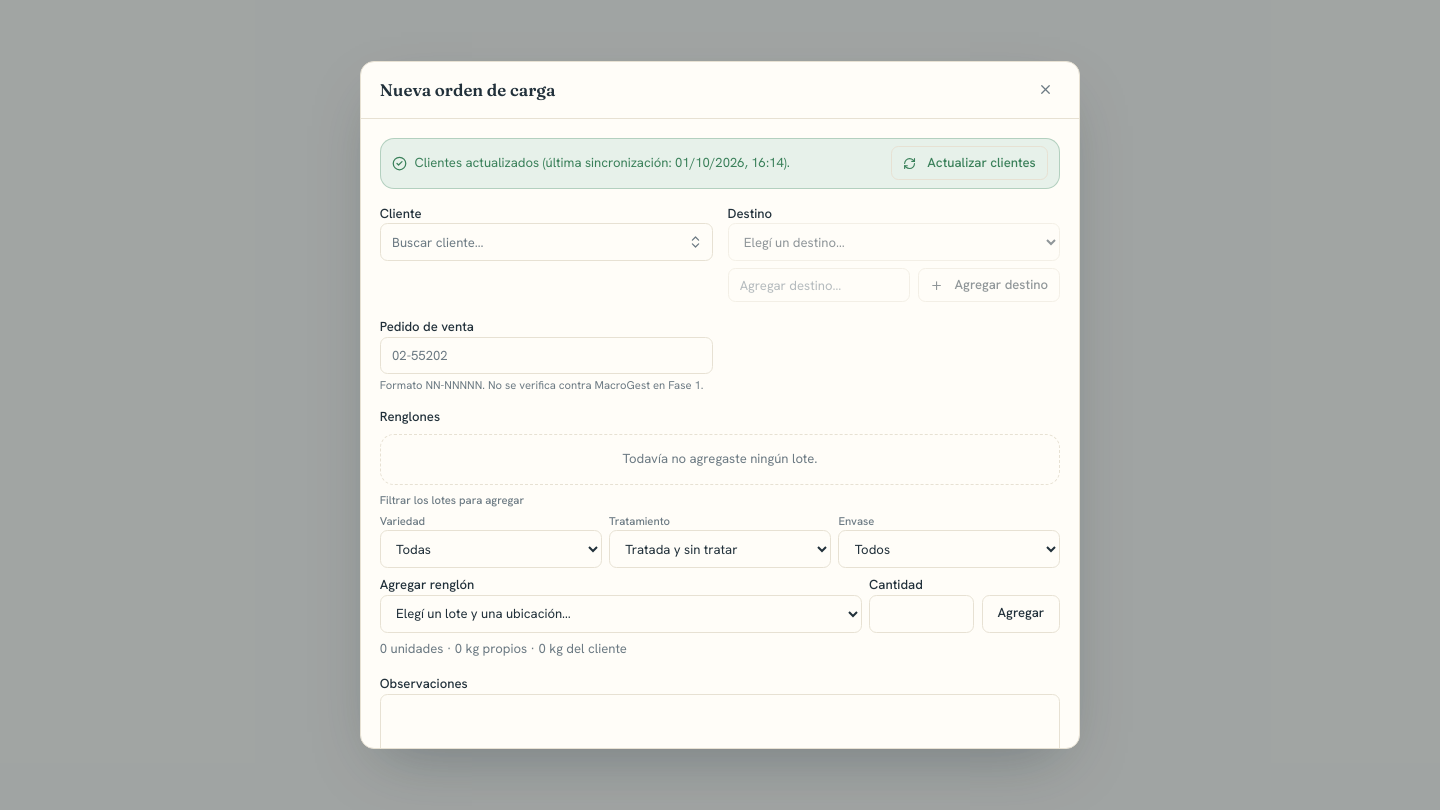
it: OrdenDialog › no deja agregar un renglón con más cantidad que el máximo disponible
The image size is (1440, 810).
Select "Lote 26S-001 · G1-1 · Propio · disp. 10 (8.000 kg)" in the dropdown labelled "Agregar renglón" at (621, 614), box left=380, top=595, right=862, bottom=632
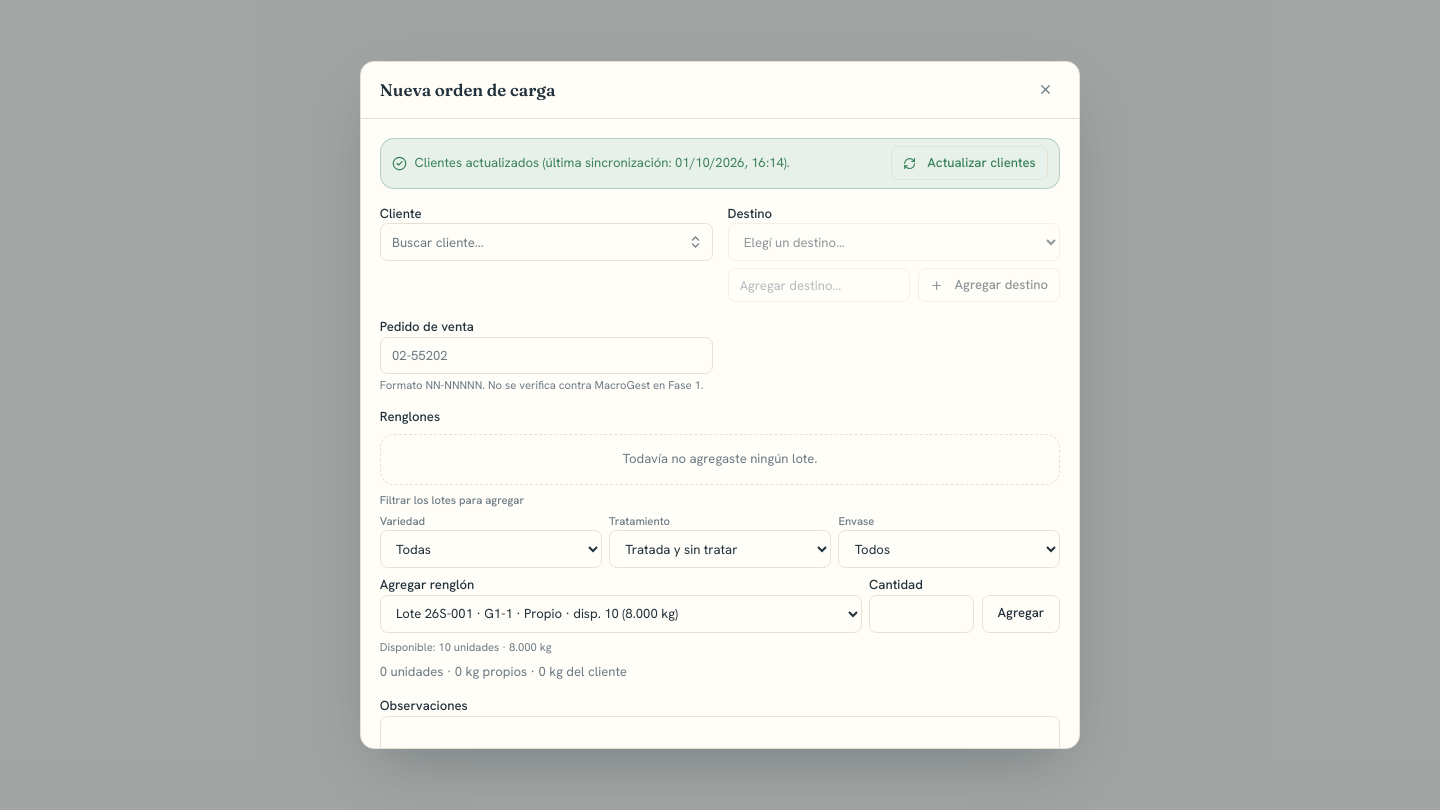
Type "999" into the number field labelled "Cantidad".
click(922, 614); type("999")  # box left=869, top=595, right=974, bottom=632
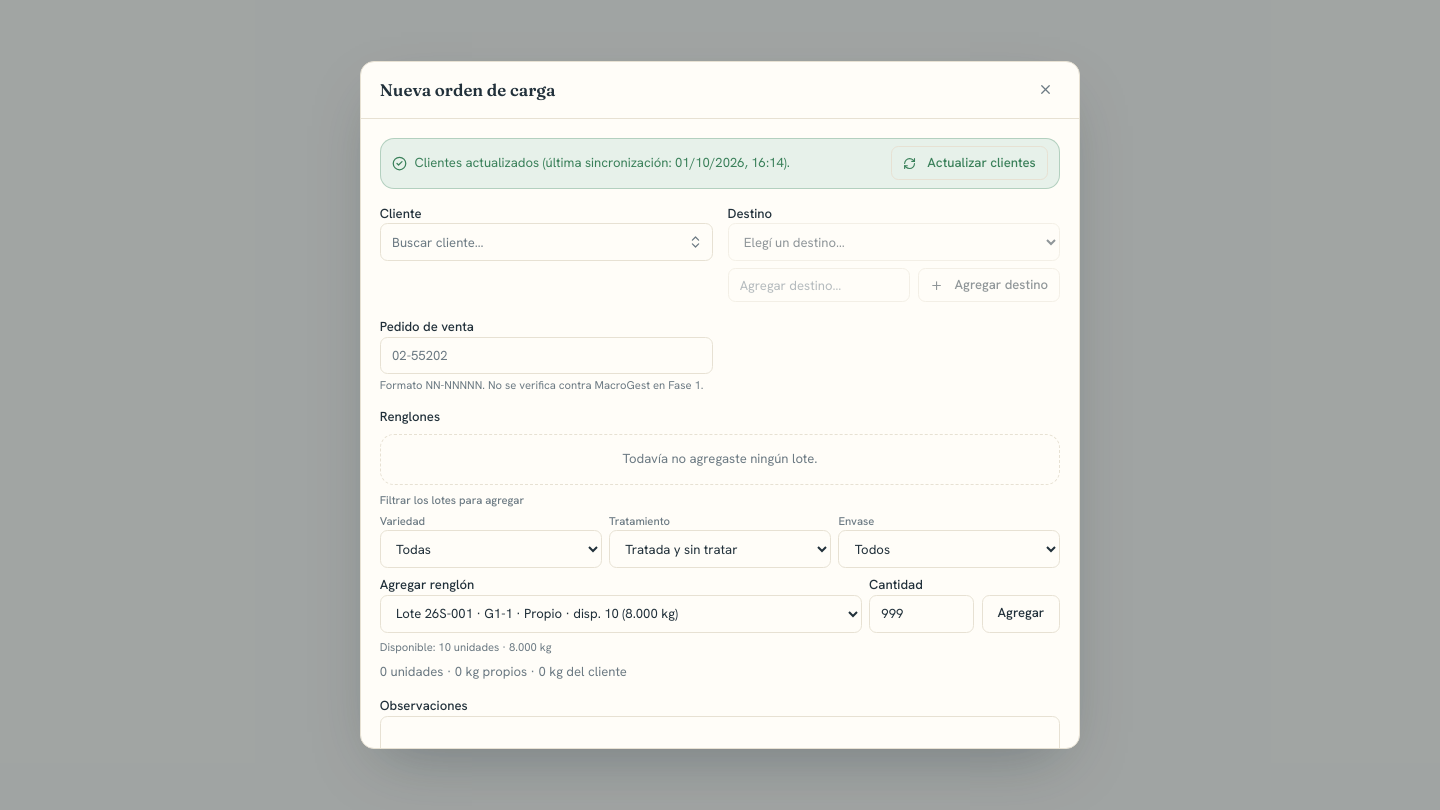
Click the button "Agregar".
click(1021, 614)  # box left=982, top=595, right=1060, bottom=632
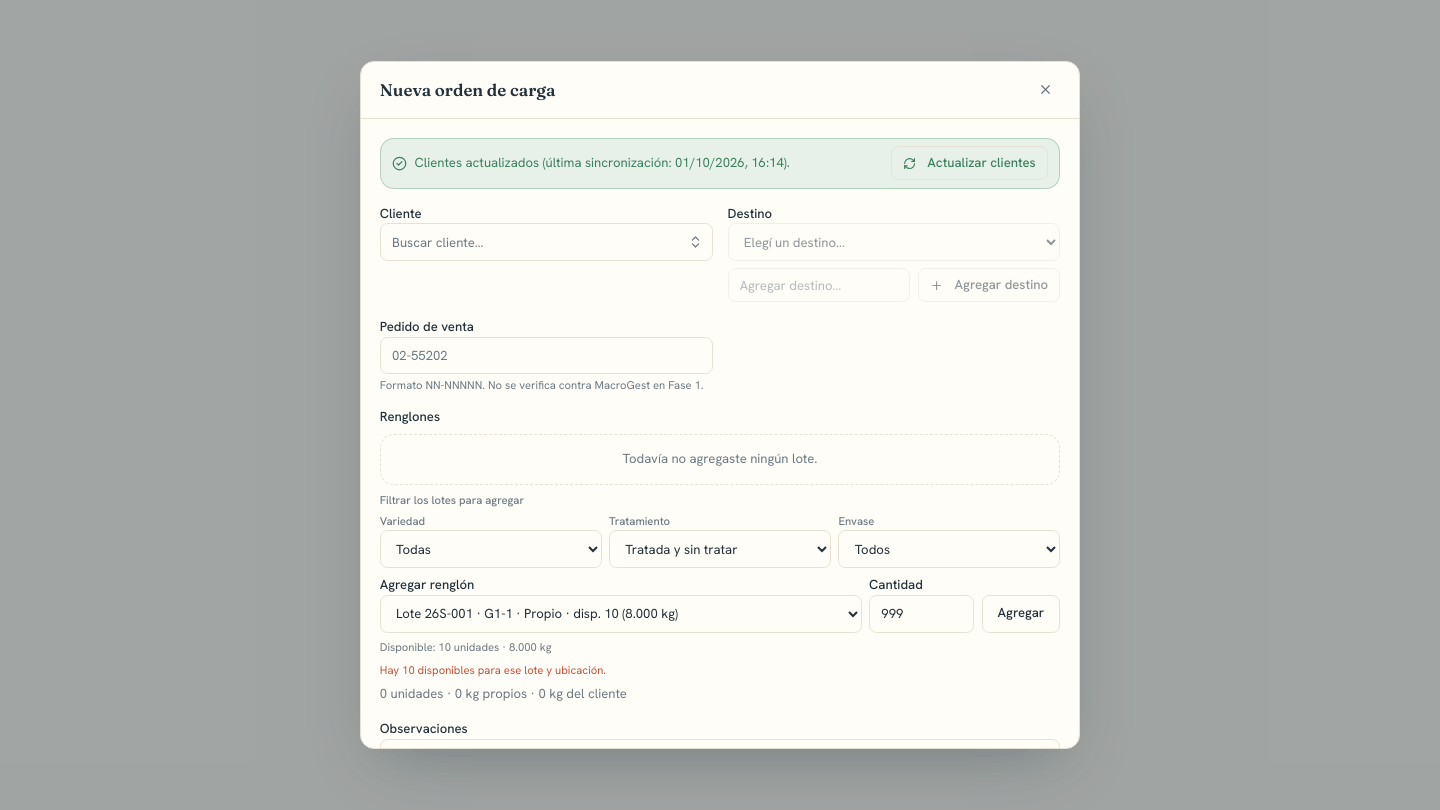
Check: the text "Hay 10 disponibles para ese lote y ubicación." is shown, box left=380, top=662, right=606, bottom=676
